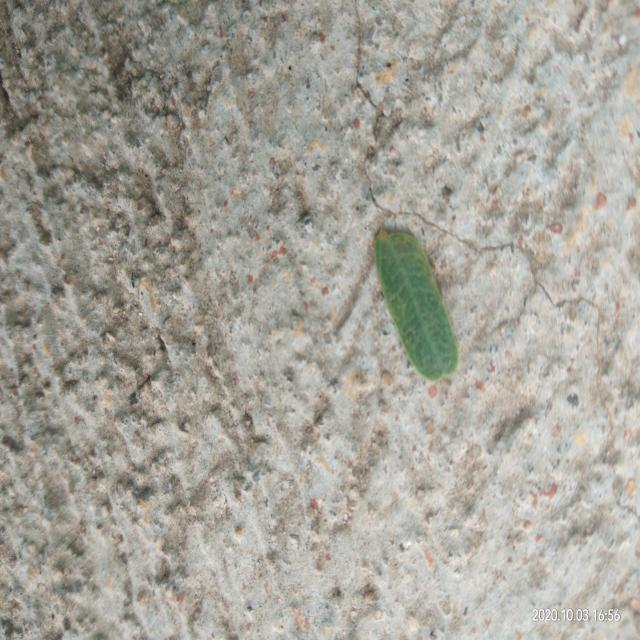tamarind: (375, 232, 459, 380)
